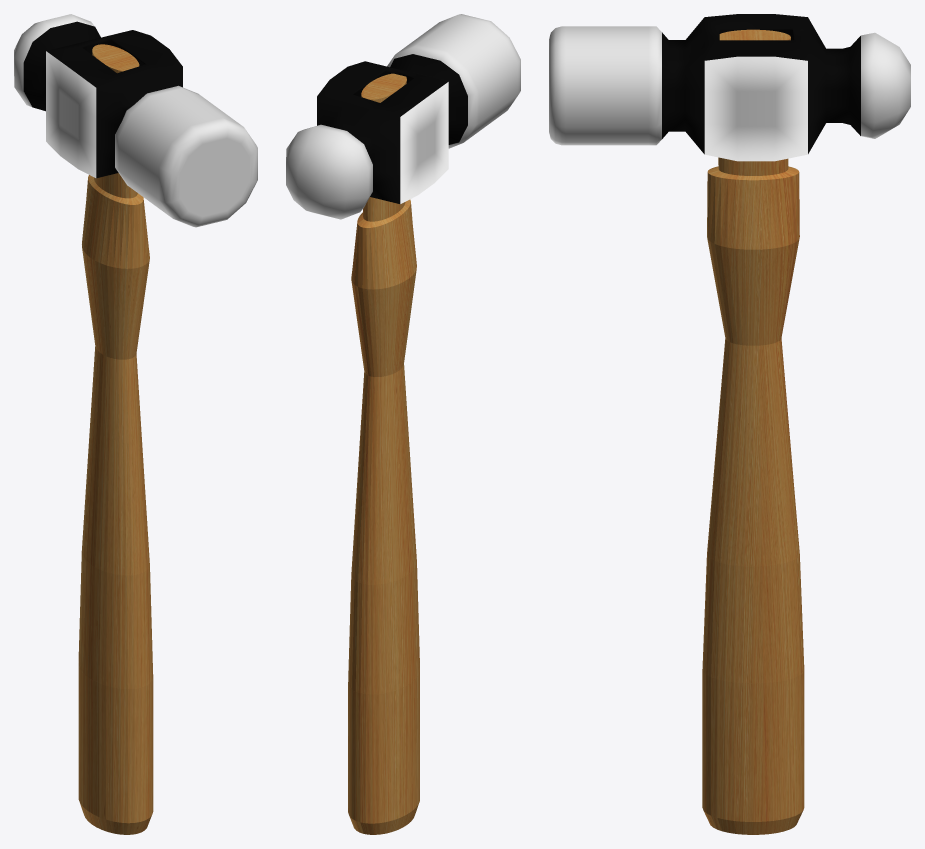
File: hammer.dae
The picture shows the model from 3 angles, left to right: view 1: azimuth 30°, elevation 25°; view 2: azimuth 150°, elevation 25°; view 3: azimuth 270°, elevation 25°; orthographic projection. The views are drawn at different scales.
Parts seen in each view (by area): view 1: Cylinder, Cube.001; view 2: Cylinder, Cube.001; view 3: Cylinder, Cube.001.
Part boxes in pixels (x1,y1,x2,y2): Cylinder: [78, 44, 153, 834]; Cube.001: [14, 14, 257, 227]; Cylinder: [348, 73, 419, 834]; Cube.001: [286, 14, 520, 219]; Cylinder: [702, 29, 804, 834]; Cube.001: [549, 14, 910, 161].
Size of the model in its own units: 2.45 by 7.79 by 18.75.
Materials: 3 (1 with a texture image).
